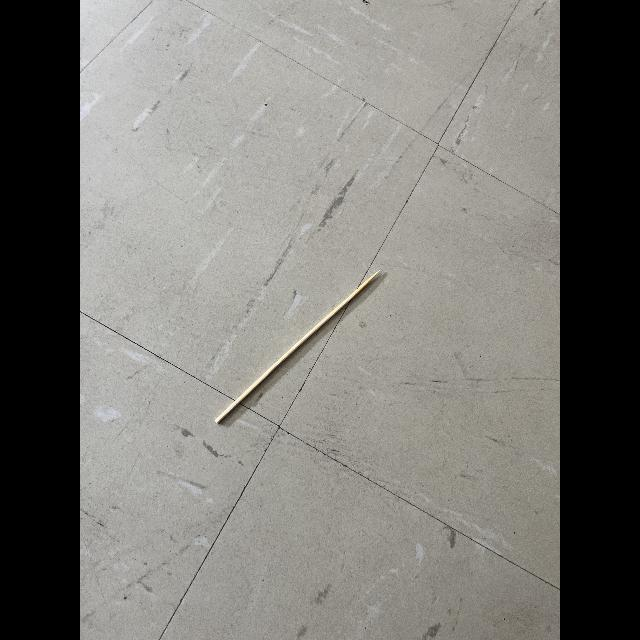stick: (202, 253, 388, 437)
